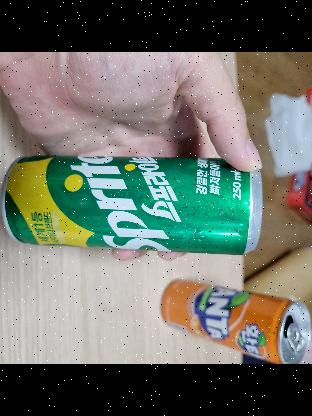Can: (0, 140, 261, 265)
